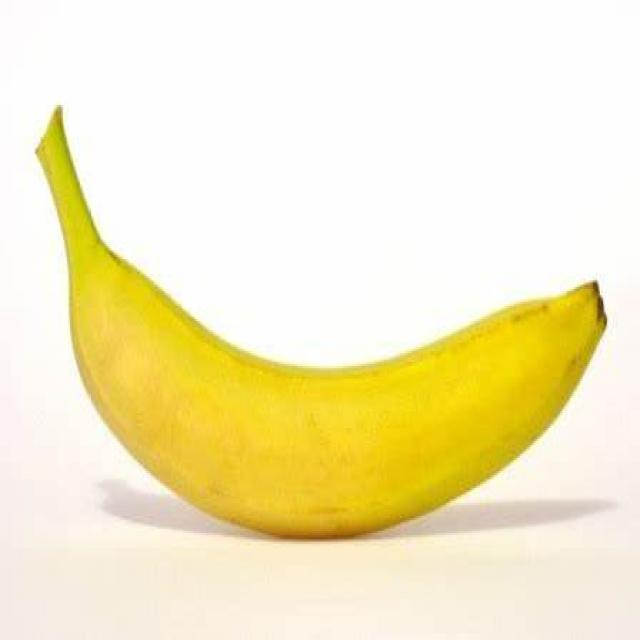Banana: (39, 113, 608, 544)
